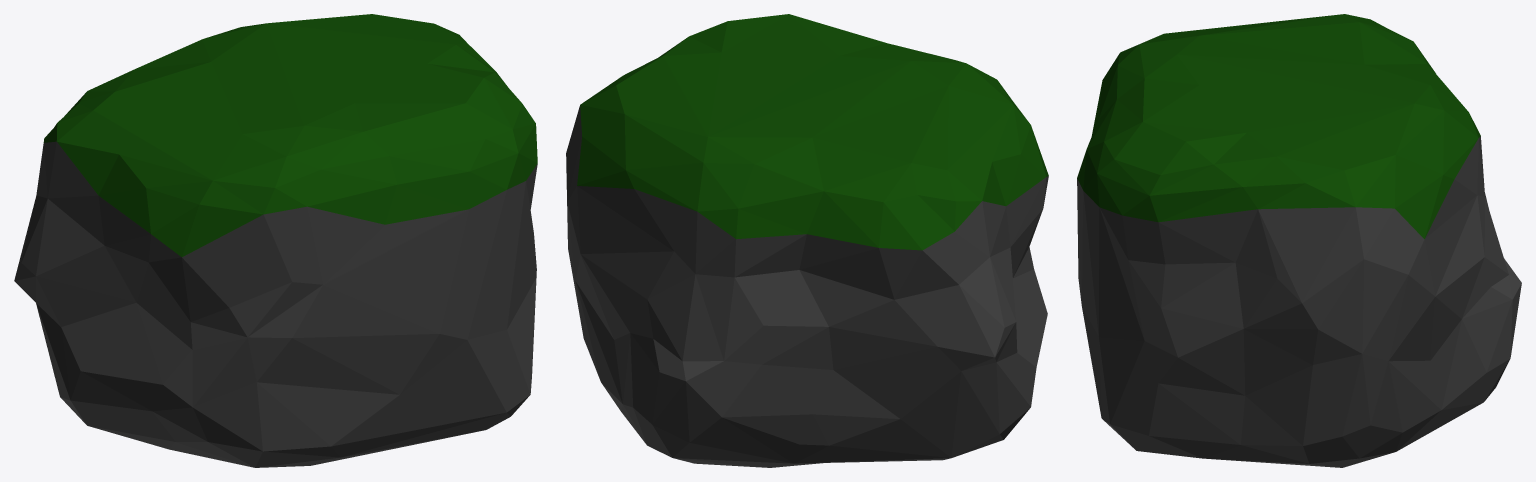
File: HighLandRock1.fbx
The picture shows the model from 3 angles, left to right: view 1: azimuth 30°, elevation 25°; view 2: azimuth 150°, elevation 25°; view 3: azimuth 270°, elevation 25°; orthographic projection. The views are drawn at different scales.
Parts seen in each view (by area): view 1: HighLandRock1_LOD0; view 2: HighLandRock1_LOD0; view 3: HighLandRock1_LOD0.
Part boxes in pixels (bbox=[...]): HighLandRock1_LOD0: bbox=[14, 14, 537, 467]; HighLandRock1_LOD0: bbox=[566, 14, 1048, 467]; HighLandRock1_LOD0: bbox=[1077, 14, 1521, 467].
Size of what is drawn, in the model's own units: 58.75 by 42.82 by 51.46.
